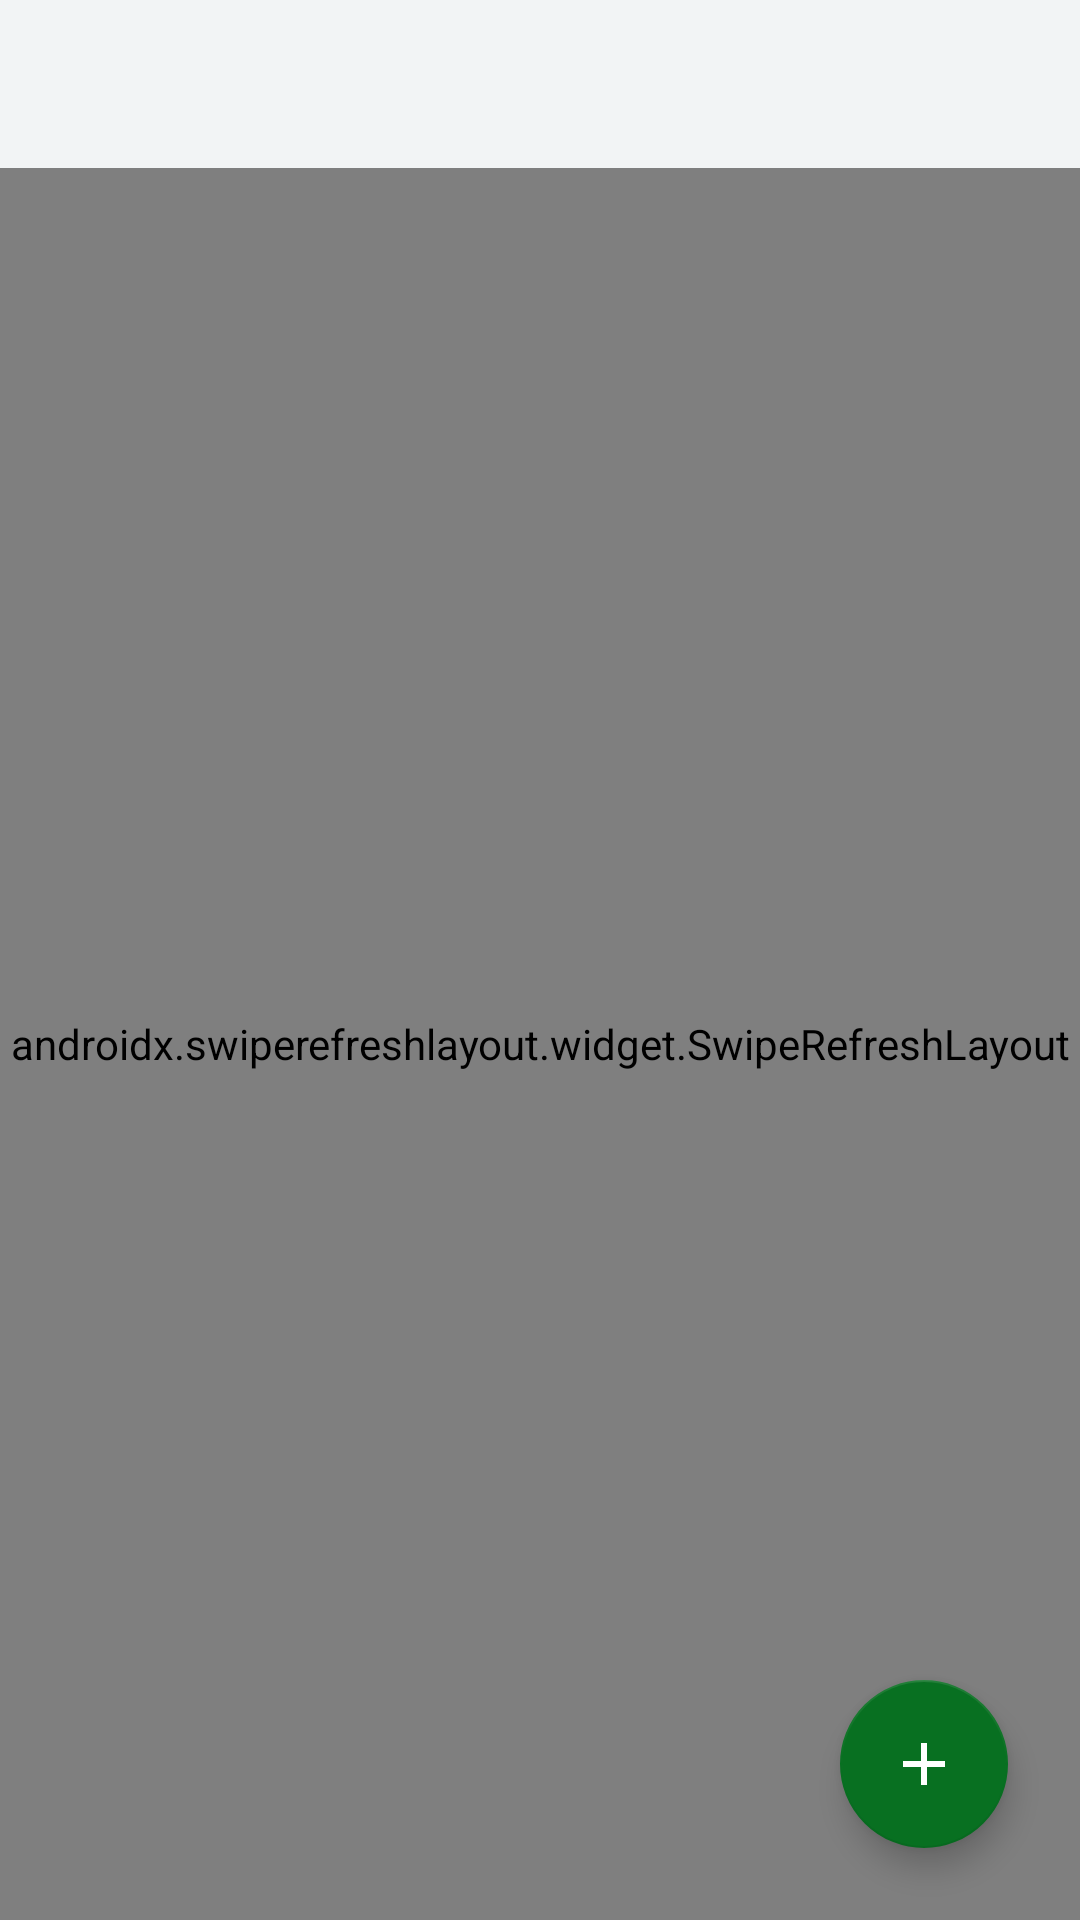

Icon click points for this 1080 x 1920 phone screenshot, format [x,y]:
Añadir entrada: [924,1764]
